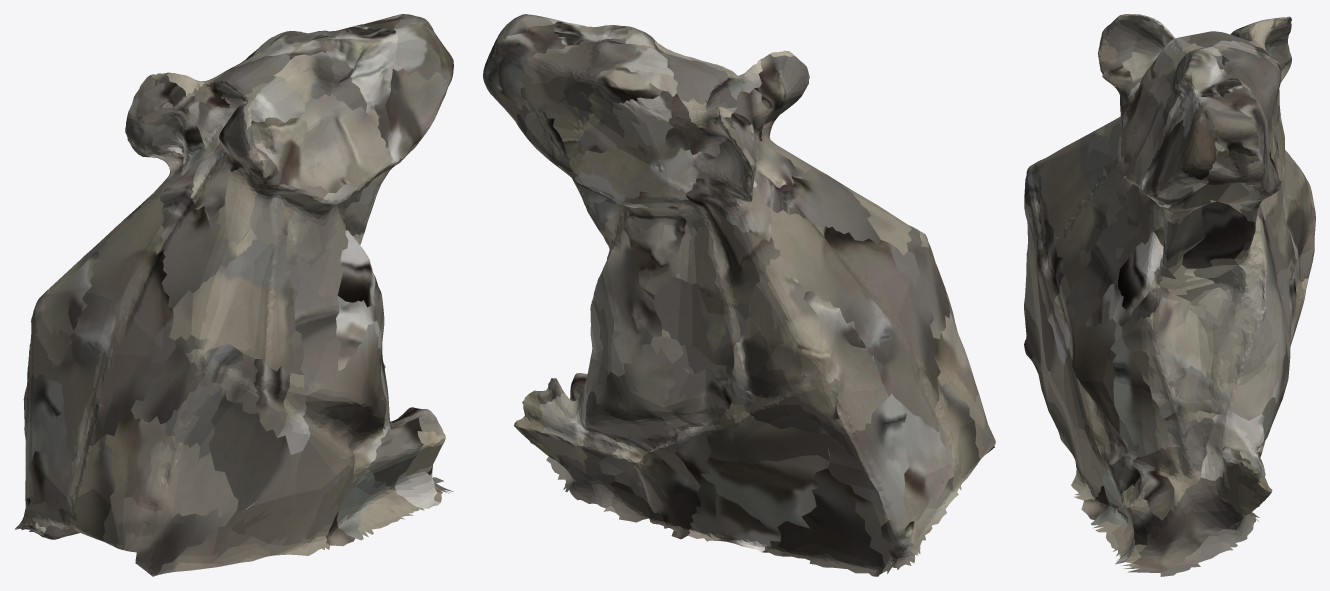
File: pika.gltf
3 views of the same model, side by side, from view 1: azimuth 30°, elevation 25°; view 2: azimuth 150°, elevation 25°; view 3: azimuth 270°, elevation 25° (orthographic). The views are drawn at different scales.
Parts seen in each view (by area): view 1: Mesh_0; view 2: Mesh_0; view 3: Mesh_0.
Boxes of the visible parts, x1=… form: Mesh_0: x1=15, y1=14, x2=453, y2=576; Mesh_0: x1=483, y1=14, x2=995, y2=576; Mesh_0: x1=1024, y1=14, x2=1315, y2=576.
Size of what is drawn, in the model's own units: 0.1018 by 0.1058 by 0.0581.
